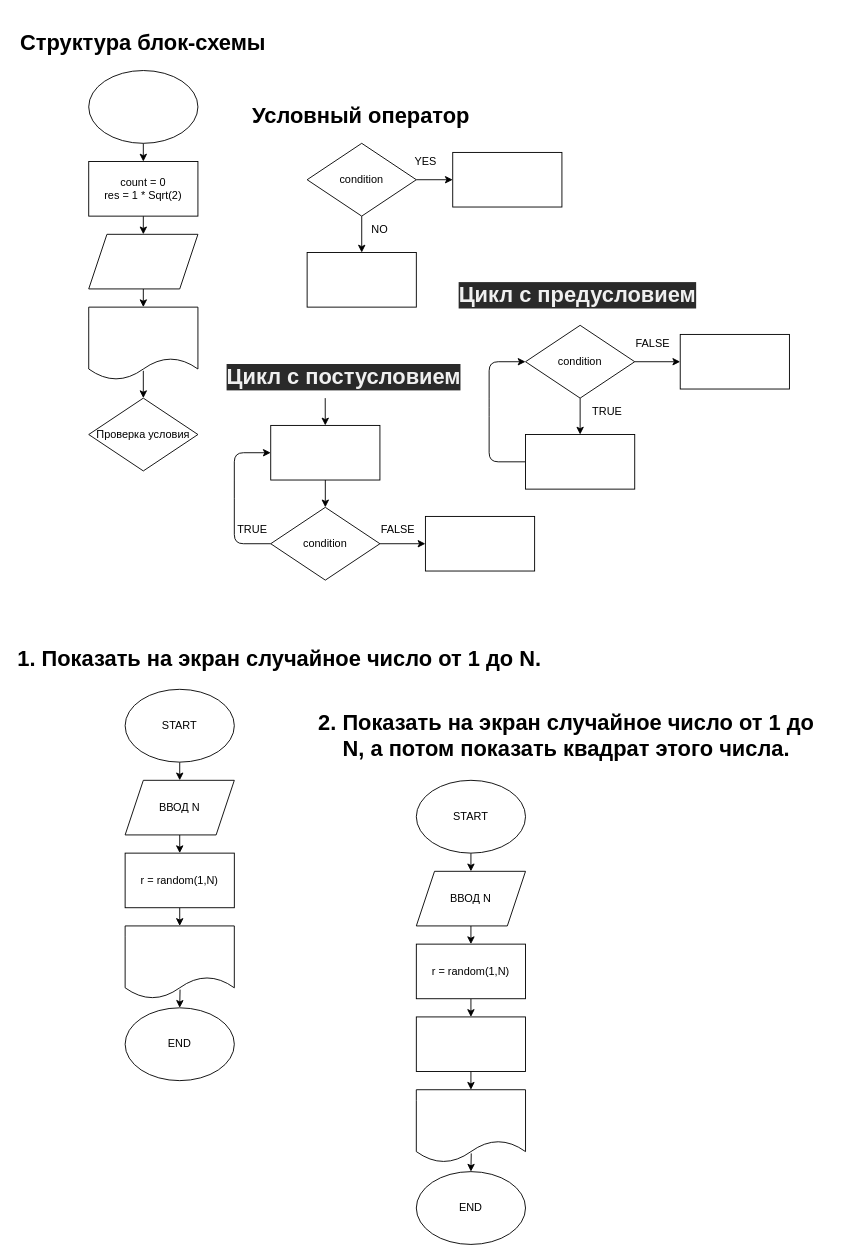
This 841x1260 diagram has some shape labels left out. Each missing label, with the box of its shape:
k = r**2: (415, 1016, 526, 1072)
START END: (88, 70, 198, 143)
ВВОД count: (88, 233, 198, 289)
ВЫВОД count: (88, 306, 198, 380)
ВЫВОД k: (415, 1089, 526, 1163)
ВЫВОД r: (124, 925, 234, 999)
